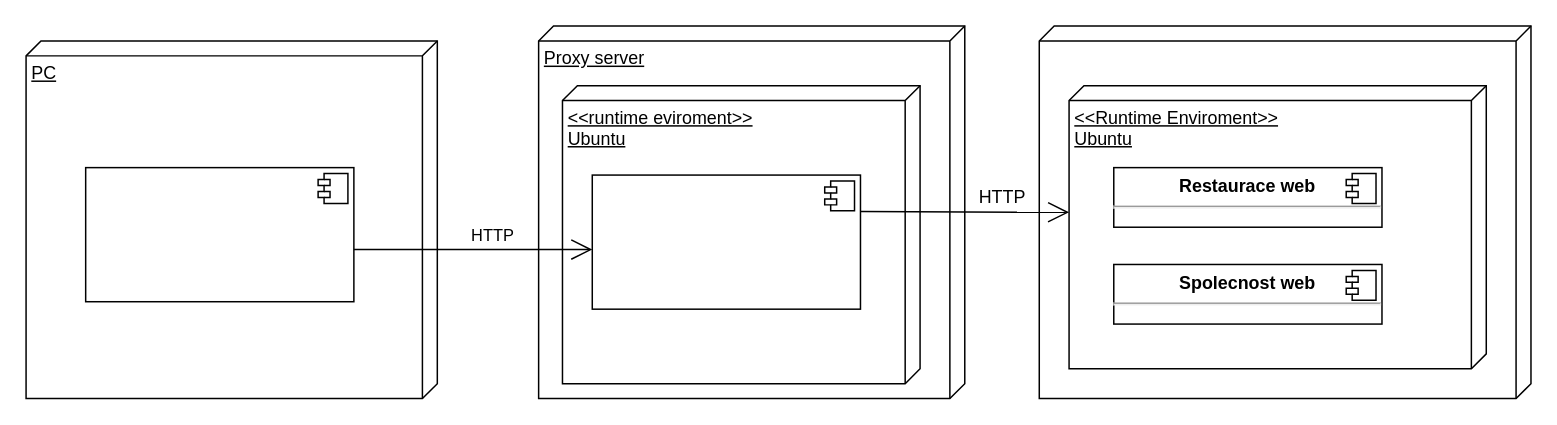
The diagram is 1557 pixels wide and 425 high, and some of its shapes have lost their labels. Here are the shapes that lost their labels. From the top down, the box of each, then its label:
(1038, 25, 1531, 399): Data Server
(84, 166, 354, 302): Google Chrome
(591, 174, 860, 309): Nginx
